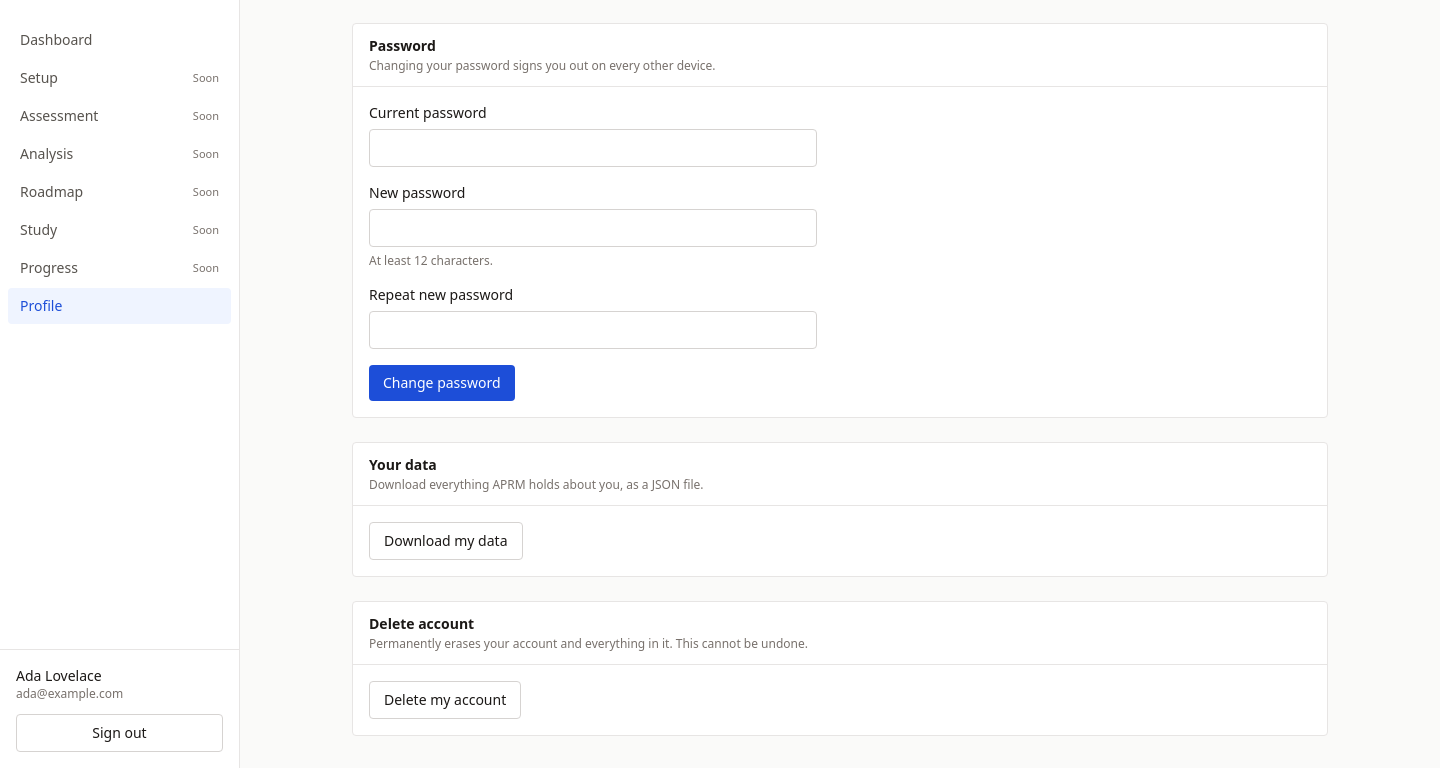
Test: ProfilePage › deletion › can be cancelled without sending anything
(page scrolled)
Click the button "Delete my account" at (445, 700), box [369,681,521,719]
(page scrolled)
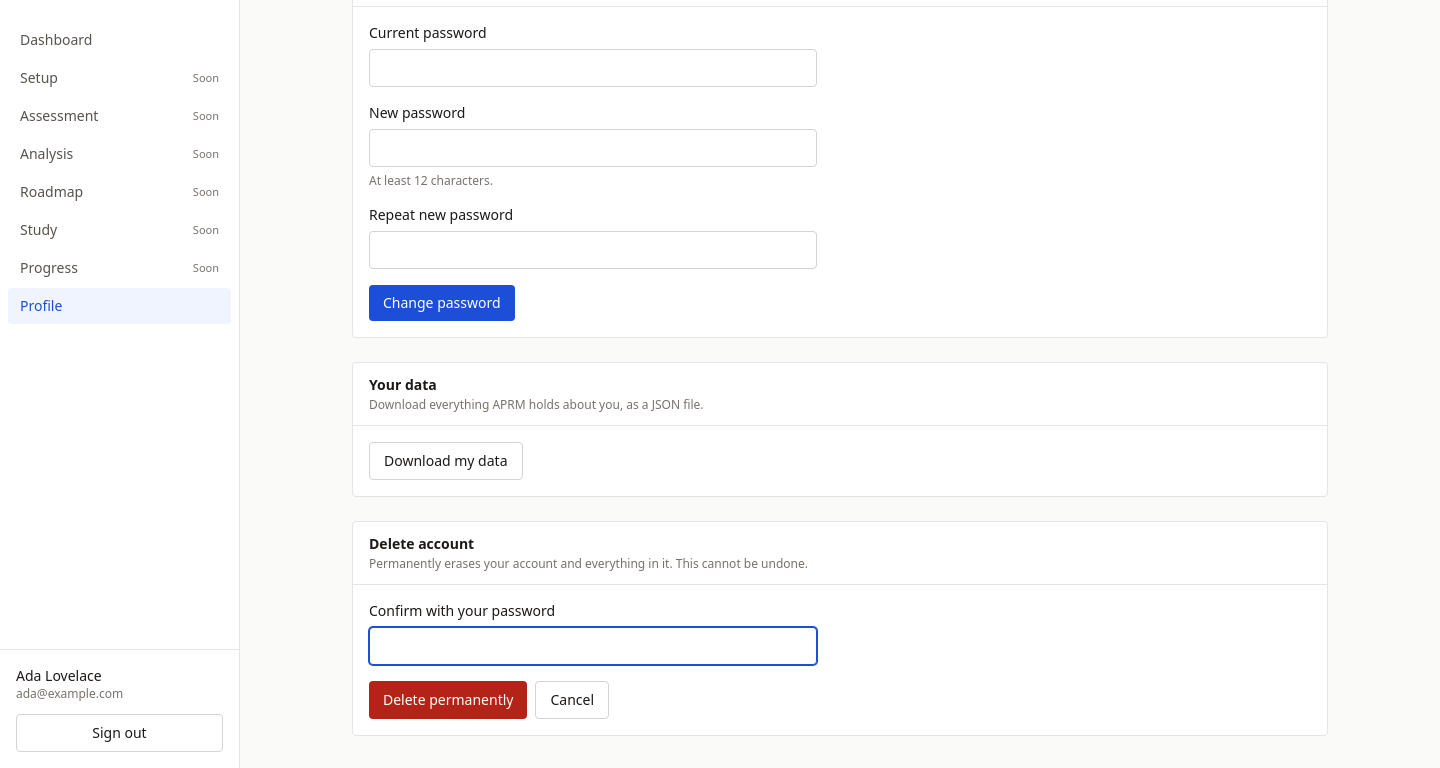
Click the button "Cancel" at (572, 700), box [536,681,609,719]
(page scrolled)
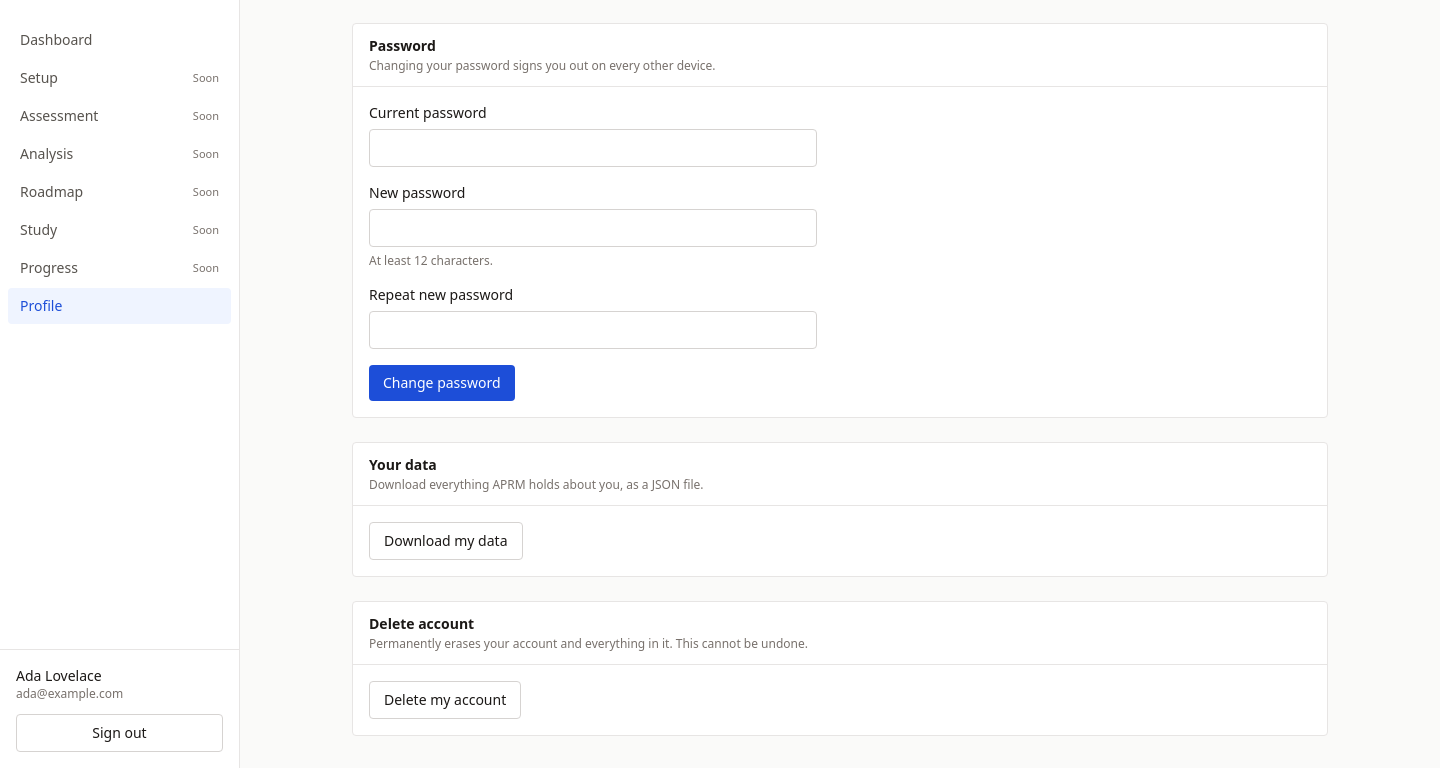
Now the button "Delete my account" is shown, box [369,681,521,719]
